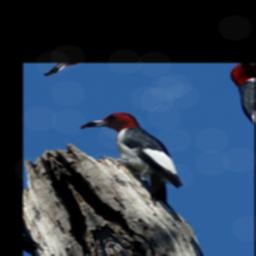Woodpecker: (79, 102, 211, 234)
